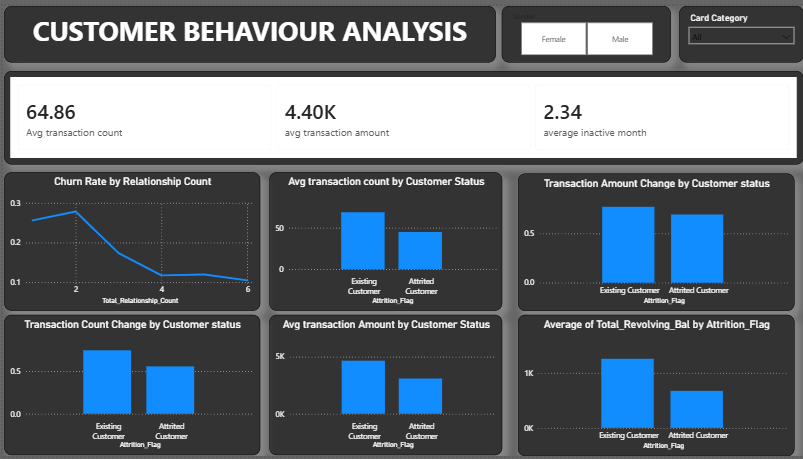

The page's visual inventory and layout, read from the dashboard file:
{"tool":"powerbi","page":{"name":"customer behaviour analysis","canvas":[1280,720],"ordinal":1},"visuals":[{"type":"textbox","box":[1.4,0,786.3,90.6],"z":0},{"type":"slicer","fields":{"Values":["BankChurners_Cleaned1.Gender"]},"box":[798.6,0,270.3,90.6],"z":3000},{"type":"slicer","fields":{"Values":["BankChurners_Cleaned1.Card_Category"]},"box":[1081.3,0,199,90.6],"z":4000},{"type":"cardVisual","fields":{"Data":["BankChurners_Cleaned1.Avg transaction count","BankChurners_Cleaned1.avg transaction amount","BankChurners_Cleaned1.average inactive month"]},"box":[1.4,104.3,1278.9,149.6],"z":4001},{"type":"clusteredColumnChart","title":"Avg transaction count by Customer Status","fields":{"Y":["BankChurners_Cleaned1.Avg transaction count"],"Category":["BankChurners_Cleaned1.Attrition_Flag"]},"box":[425.2,265.5,373,221.3],"z":4002},{"type":"clusteredColumnChart","title":"Avg transaction Amount by Customer Status","fields":{"Category":["BankChurners_Cleaned1.Attrition_Flag"],"Y":["BankChurners_Cleaned1.avg transaction amount"]},"box":[425.2,494.7,373,224.5],"z":4003},{"type":"lineChart","title":"Churn Rate by Relationship Count","fields":{"Y":["BankChurners_Cleaned1.Churn Rate"],"Category":["BankChurners_Cleaned1.Total_Relationship_Count"]},"box":[1.6,265.5,409.4,221.3],"z":4004},{"type":"clusteredColumnChart","title":"Transaction Count Change by Customer  status","fields":{"Y":["BankChurners_Cleaned1.Average Transaction Count Change"],"Category":["BankChurners_Cleaned1.Attrition_Flag"]},"box":[1.6,494.7,409.4,224.5],"z":4005},{"type":"clusteredColumnChart","title":"Transaction Amount Change by Customer  status","fields":{"Y":["Avg(BankChurners_Cleaned1.Total_Amt_Chng_Q4_Q1)"],"Category":["BankChurners_Cleaned1.Attrition_Flag"]},"box":[823.5,267.1,442.6,219.7],"z":4006},{"type":"columnChart","fields":{"Category":["BankChurners_Cleaned1.Attrition_Flag"],"Y":["Avg(BankChurners_Cleaned1.Total_Revolving_Bal)"]},"box":[823.5,494.7,442.6,226],"z":4007}]}

Visuals, with their boxes in screenshot pixels (x1, y1, x2, y2), scaled from the page's 1280x720 canvas onto the 803x461 screenshot:
textbox: 1,0,494,58
slicer - BankChurners_Cleaned1.Gender: 501,0,671,58
slicer - BankChurners_Cleaned1.Card_Category: 678,0,802,58
cardVisual - BankChurners_Cleaned1.Avg transaction count x BankChurners_Cleaned1.avg transaction amount: 1,67,802,163
"Avg transaction count by Customer Status" clusteredColumnChart: 267,170,501,312
"Avg transaction Amount by Customer Status" clusteredColumnChart: 267,317,501,460
"Churn Rate by Relationship Count" lineChart: 1,170,258,312
"Transaction Count Change by Customer  status" clusteredColumnChart: 1,317,258,460
"Transaction Amount Change by Customer  status" clusteredColumnChart: 517,171,794,312
columnChart - BankChurners_Cleaned1.Attrition_Flag x Avg(BankChurners_Cleaned1.Total_Revolving_Bal): 517,317,794,460
